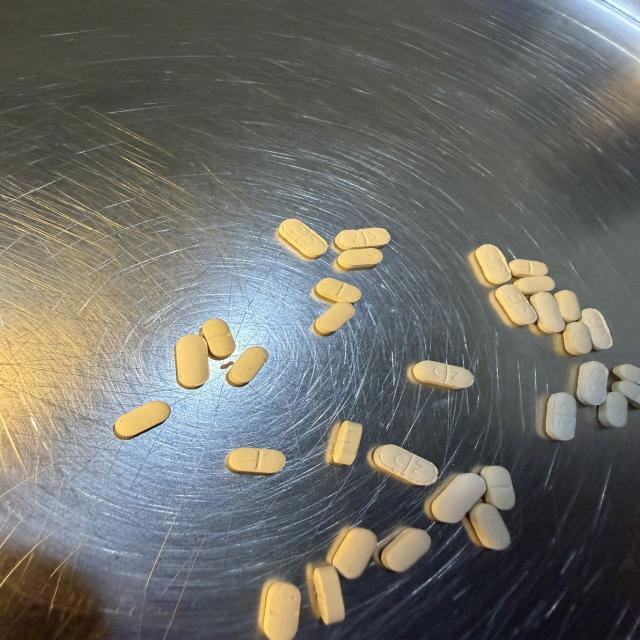pill: (431, 473, 486, 523), (373, 445, 438, 485), (331, 528, 376, 578), (381, 528, 431, 571), (114, 401, 170, 439), (263, 582, 300, 639), (470, 503, 510, 550), (279, 219, 327, 258), (175, 335, 209, 389), (314, 565, 344, 624), (413, 361, 474, 389), (227, 346, 268, 386), (496, 285, 537, 325), (227, 448, 285, 474), (480, 466, 515, 509), (530, 292, 565, 333), (546, 393, 576, 440), (200, 319, 235, 359), (476, 244, 511, 284), (577, 361, 608, 406), (314, 302, 355, 335), (581, 309, 612, 350), (333, 421, 362, 464), (335, 228, 390, 250), (315, 278, 361, 303), (598, 391, 627, 427), (563, 321, 591, 355), (338, 248, 383, 269), (554, 290, 581, 322), (612, 380, 639, 408), (515, 276, 554, 295), (509, 259, 547, 277), (613, 364, 639, 384)
